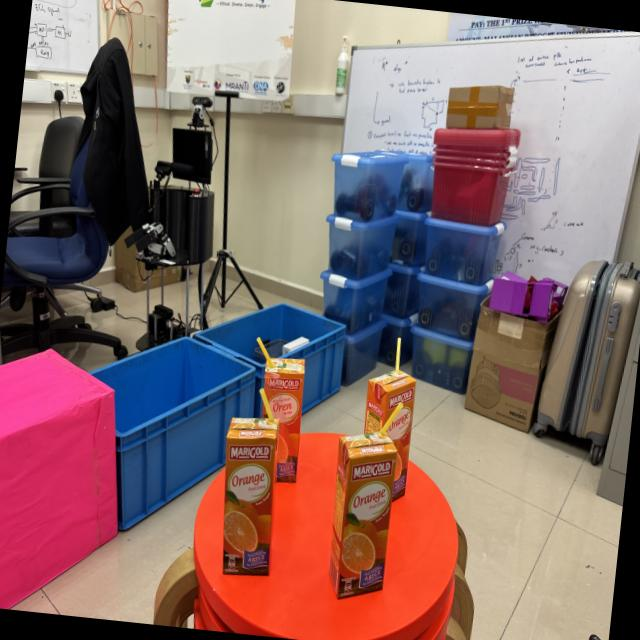drink_carton: (316, 392, 412, 614), (207, 372, 297, 586), (351, 325, 431, 509), (236, 326, 320, 490)
